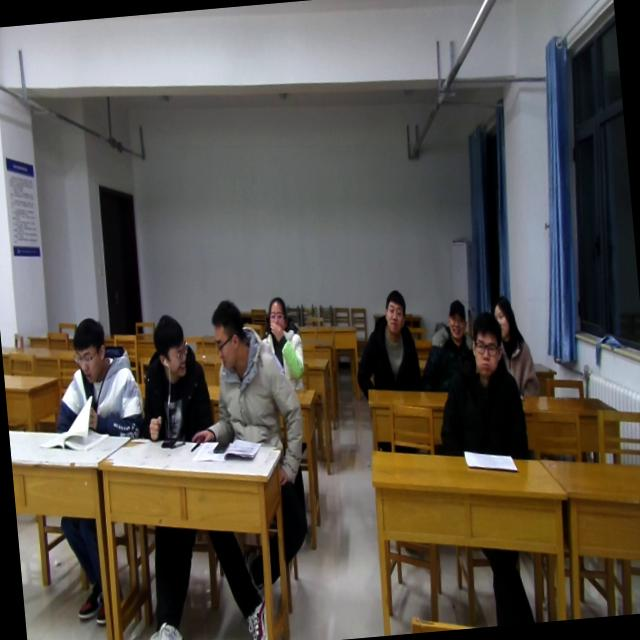down: (67, 313, 109, 383)
lookup: (466, 309, 506, 380), (260, 288, 291, 338), (377, 282, 408, 332), (442, 290, 469, 344), (488, 291, 516, 338)
sit: (182, 294, 304, 448), (424, 310, 533, 464), (44, 313, 146, 446), (128, 309, 216, 448), (347, 288, 422, 397), (416, 298, 481, 392), (488, 292, 542, 399), (258, 290, 308, 398)
